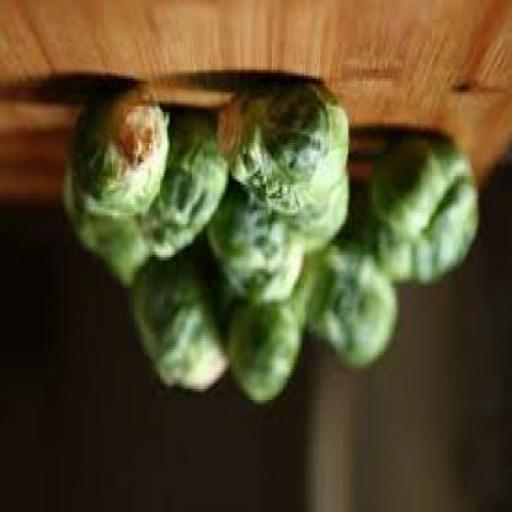biodegradable: (212, 81, 350, 224), (293, 190, 396, 372), (356, 137, 476, 289), (127, 249, 230, 397), (134, 109, 225, 263), (203, 176, 302, 310), (70, 84, 166, 222), (62, 162, 152, 290), (224, 286, 304, 408), (276, 171, 348, 255), (203, 264, 236, 316)
